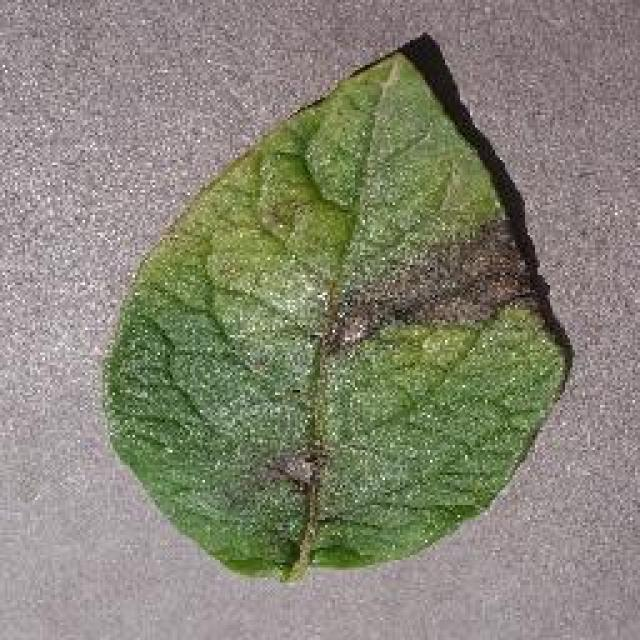late_blight: (97, 30, 575, 582)
